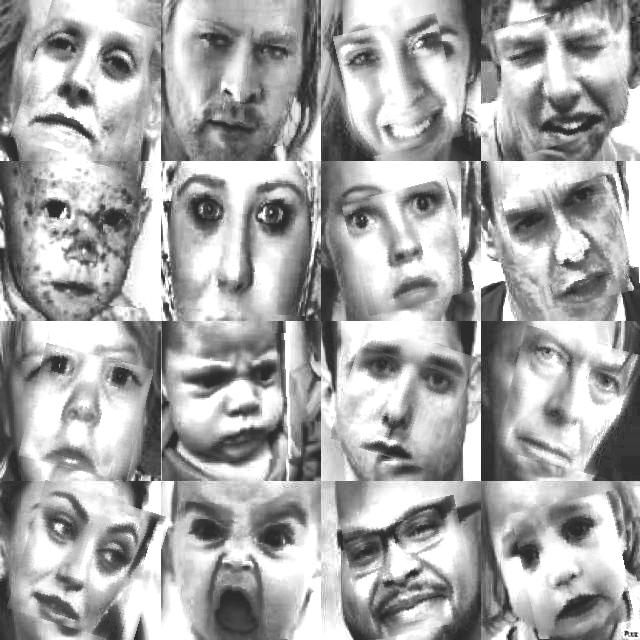angry: (175, 503, 308, 639), (508, 179, 640, 309), (183, 334, 294, 462)
fear: (337, 330, 467, 466), (347, 184, 468, 310)
happy: (345, 501, 474, 637), (340, 18, 458, 154)
neutral: (15, 488, 162, 638), (20, 4, 149, 162), (176, 170, 312, 314), (501, 332, 637, 474), (28, 182, 150, 306), (180, 22, 288, 144)
sad: (498, 5, 631, 147), (516, 495, 638, 636), (24, 349, 147, 477)
